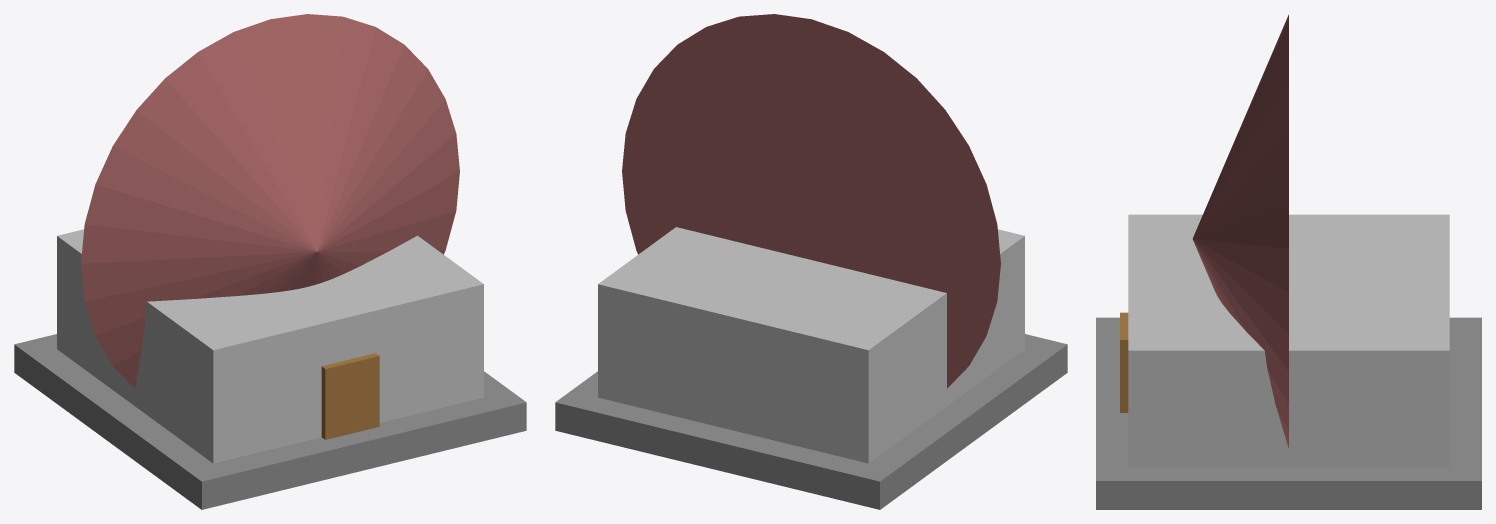
File: sample_building.glb
3 renders of one model, left to right at view 1: azimuth 30°, elevation 25°; view 2: azimuth 150°, elevation 25°; view 3: azimuth 270°, elevation 25°, orthographic. The views are drawn at different scales.
Visible parts, largest first — view 1: Roof, Walls, Foundation, Door; view 2: Roof, Walls, Foundation; view 3: Walls, Foundation, Roof, Door.
Boxes of the visible parts, x1,y1,x2,y2 form: Roof: (81, 14, 459, 388); Walls: (57, 229, 483, 463); Foundation: (14, 334, 526, 509); Door: (321, 353, 379, 439); Roof: (622, 14, 1000, 388); Walls: (598, 227, 1024, 463); Foundation: (555, 334, 1067, 509); Walls: (1128, 214, 1449, 467); Foundation: (1096, 317, 1481, 509); Roof: (1192, 14, 1288, 448); Door: (1120, 312, 1128, 412).
Bounding box in the file's own units: 14 × 14 × 12.
